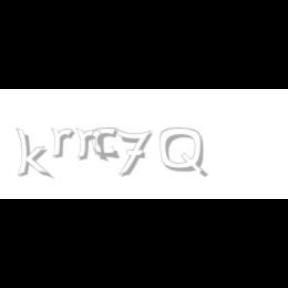7: (116, 128, 152, 178)
Q: (160, 128, 206, 178)
c: (92, 128, 120, 160)
k: (15, 128, 53, 180)
n: (75, 128, 109, 162)
r: (50, 128, 78, 158)
